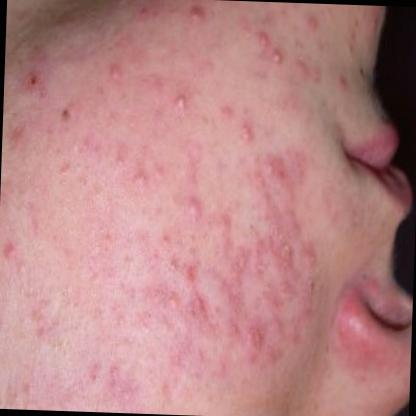Acne: (130, 165, 151, 197), (2, 236, 20, 264), (238, 120, 255, 148), (262, 156, 280, 180), (185, 194, 201, 220), (172, 90, 190, 113), (108, 61, 124, 82), (270, 47, 286, 66), (116, 150, 128, 171)
